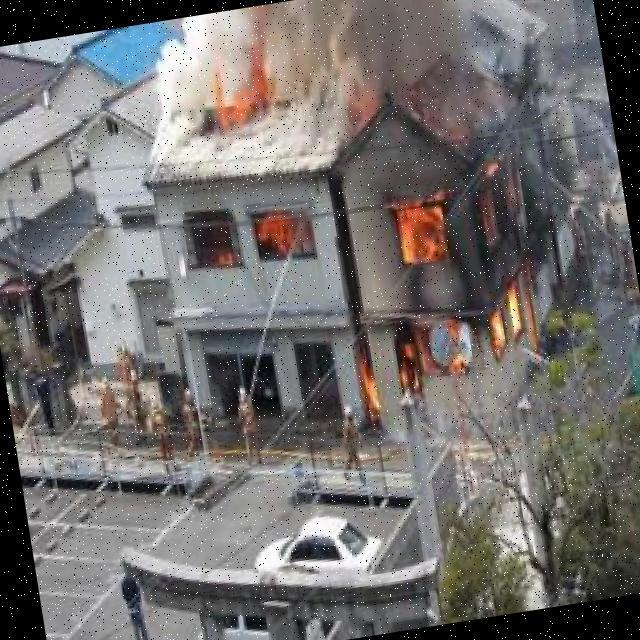Fire: (316, 128, 558, 428), (186, 21, 286, 132), (188, 205, 319, 283)
